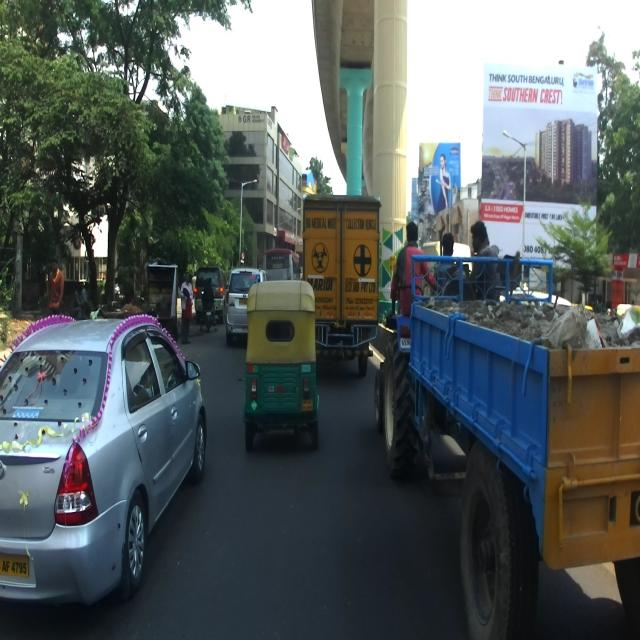Car_Toyota: (0, 313, 209, 608)
autorickshaw: (243, 276, 321, 452)
